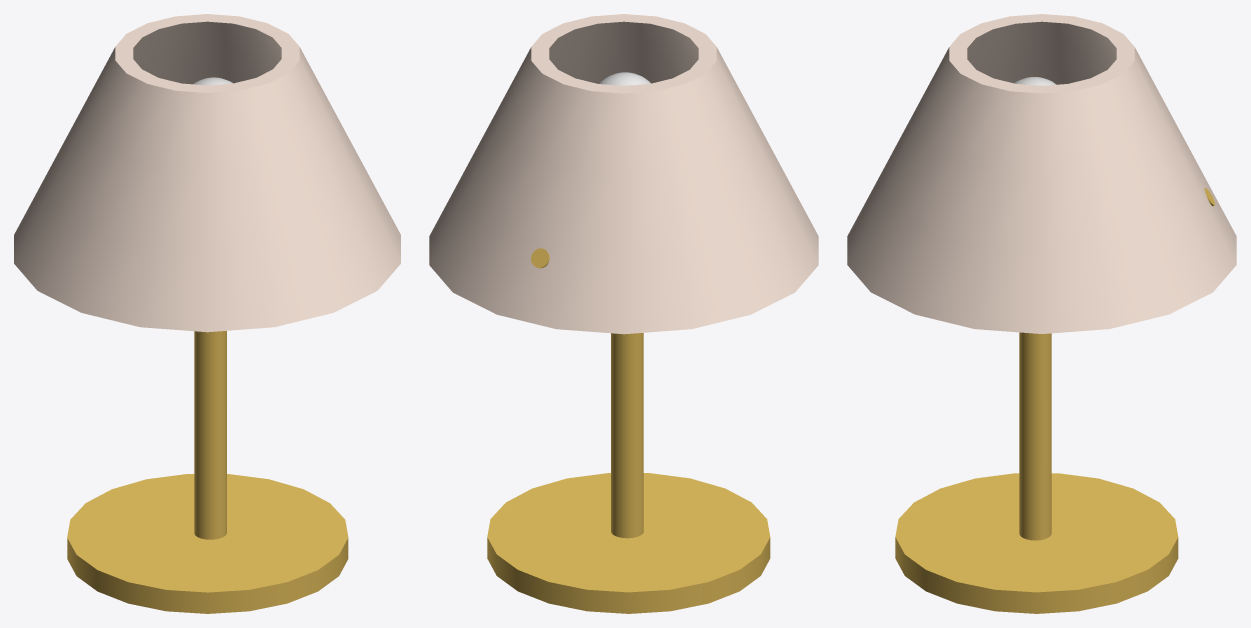
File: Standing light.fbx
3 views of the same model, side by side, from view 1: azimuth 30°, elevation 25°; view 2: azimuth 150°, elevation 25°; view 3: azimuth 270°, elevation 25° (orthographic).
Parts seen in each view (by area): view 1: Cone001; view 2: Cone001; view 3: Cone001.
Part boxes in pixels (bbox=[...]): Cone001: bbox=[14, 14, 400, 613]; Cone001: bbox=[429, 14, 818, 613]; Cone001: bbox=[847, 14, 1236, 613].
Size of the model in its own units: 29.45 by 41.22 by 29.
